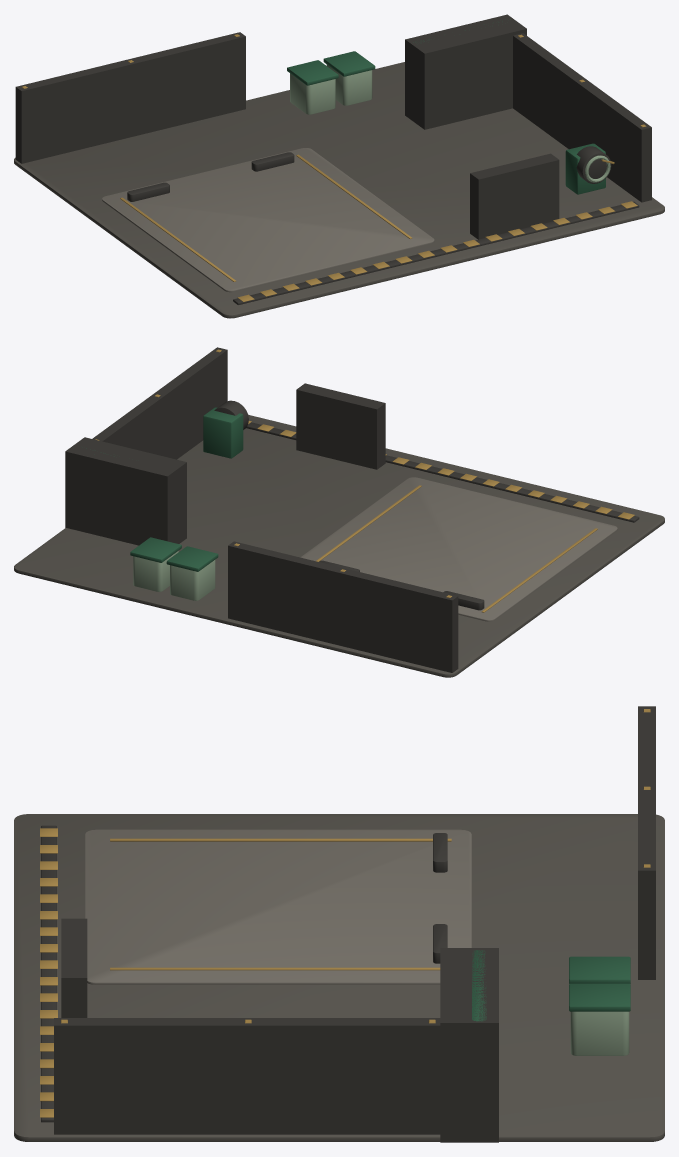
Rendered from maintenance_yard_dressing.glb.
The picture shows the model from 3 angles, top to bottom: view 1: azimuth 30°, elevation 25°; view 2: azimuth 150°, elevation 25°; view 3: azimuth 270°, elevation 25°; orthographic projection. The views are drawn at different scales.
Visible parts, largest first — view 1: maintenance_yard_dressing_body, COL_BackFence, COL_EastFence, COL_GroundsRack, COL_GroundsSign; view 2: maintenance_yard_dressing_body, COL_BackFence, COL_GroundsRack, COL_EastFence, COL_GroundsSign; view 3: maintenance_yard_dressing_body, COL_EastFence, COL_GroundsRack, COL_BackFence, COL_GroundsSign.
Part boxes in pixels (x1=…): maintenance_yard_dressing_body: x1=14, y1=19, x2=664, y2=318; COL_BackFence: x1=15, y1=32, x2=245, y2=163; COL_EastFence: x1=513, y1=33, x2=651, y2=202; COL_GroundsRack: x1=405, y1=14, x2=526, y2=129; COL_GroundsSign: x1=470, y1=153, x2=559, y2=239; maintenance_yard_dressing_body: x1=14, y1=349, x2=664, y2=677; COL_BackFence: x1=228, y1=541, x2=458, y2=672; COL_GroundsRack: x1=65, y1=437, x2=186, y2=545; COL_EastFence: x1=92, y1=347, x2=227, y2=459; COL_GroundsSign: x1=296, y1=383, x2=385, y2=469; maintenance_yard_dressing_body: x1=14, y1=709, x2=664, y2=1141; COL_EastFence: x1=54, y1=1018, x2=440, y2=1134; COL_GroundsRack: x1=440, y1=948, x2=498, y2=1142; COL_BackFence: x1=638, y1=706, x2=655, y2=979; COL_GroundsSign: x1=61, y1=918, x2=87, y2=1017.
Size of the model in its own units: 9.41 by 1.62 by 8.
